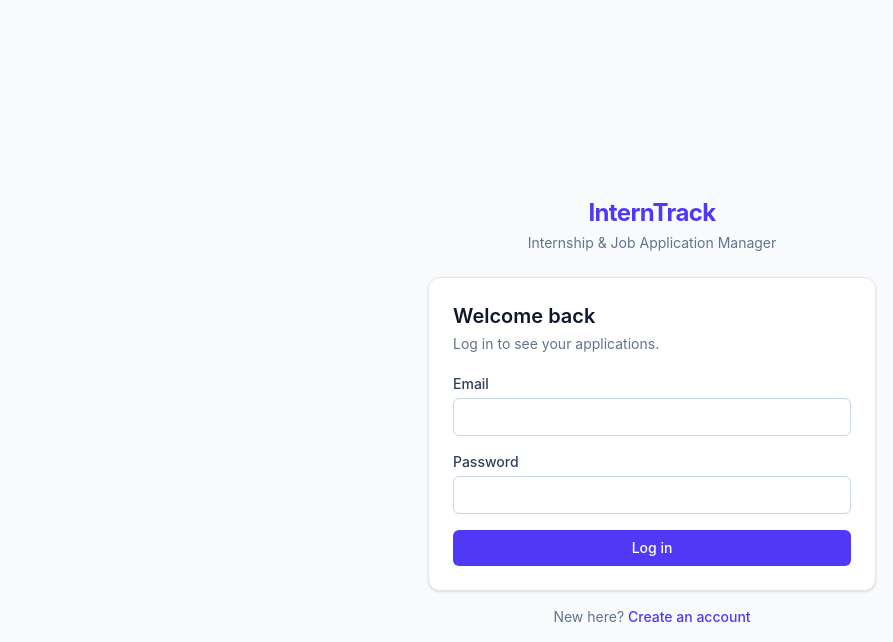
Test case: Login page › links to the registration page
What coordinates should you click on to do the following:
click the link "Create an account"
I would click on:
 (689, 616)
Its box is [628,608,751,625].
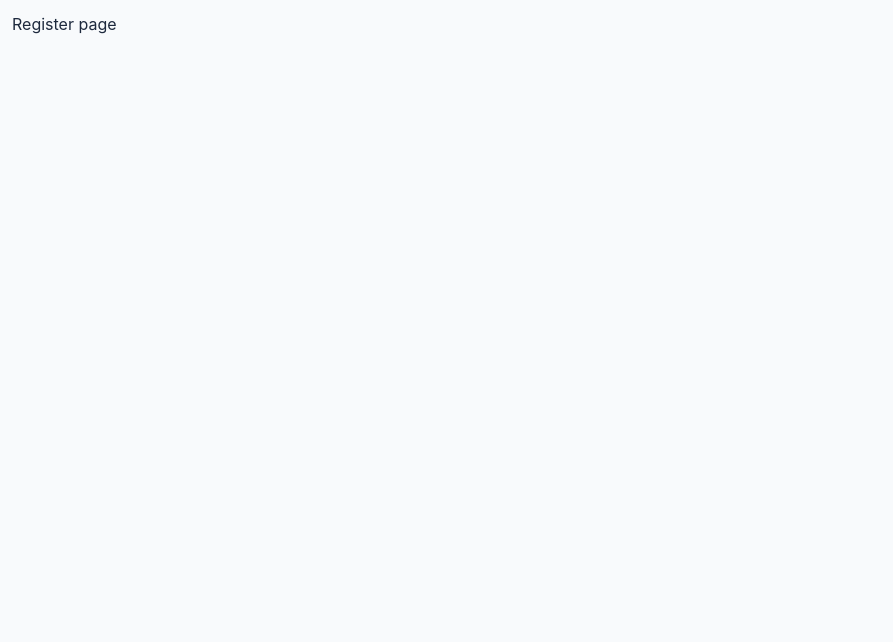
Expected: the text "Register page" is shown, [12,14,116,34]
